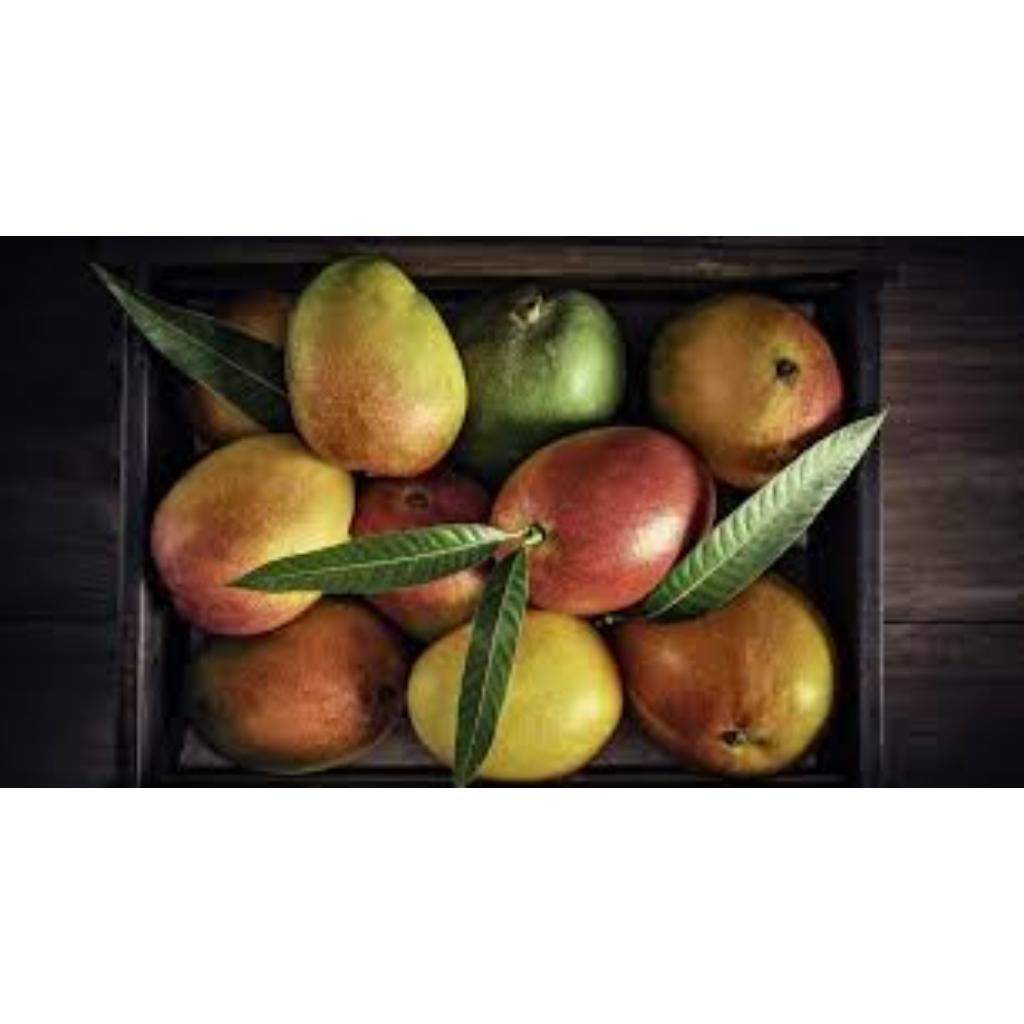mango: (616, 575, 836, 769), (489, 427, 716, 614), (143, 434, 353, 632), (292, 255, 475, 472), (175, 607, 410, 772), (647, 286, 831, 490)
